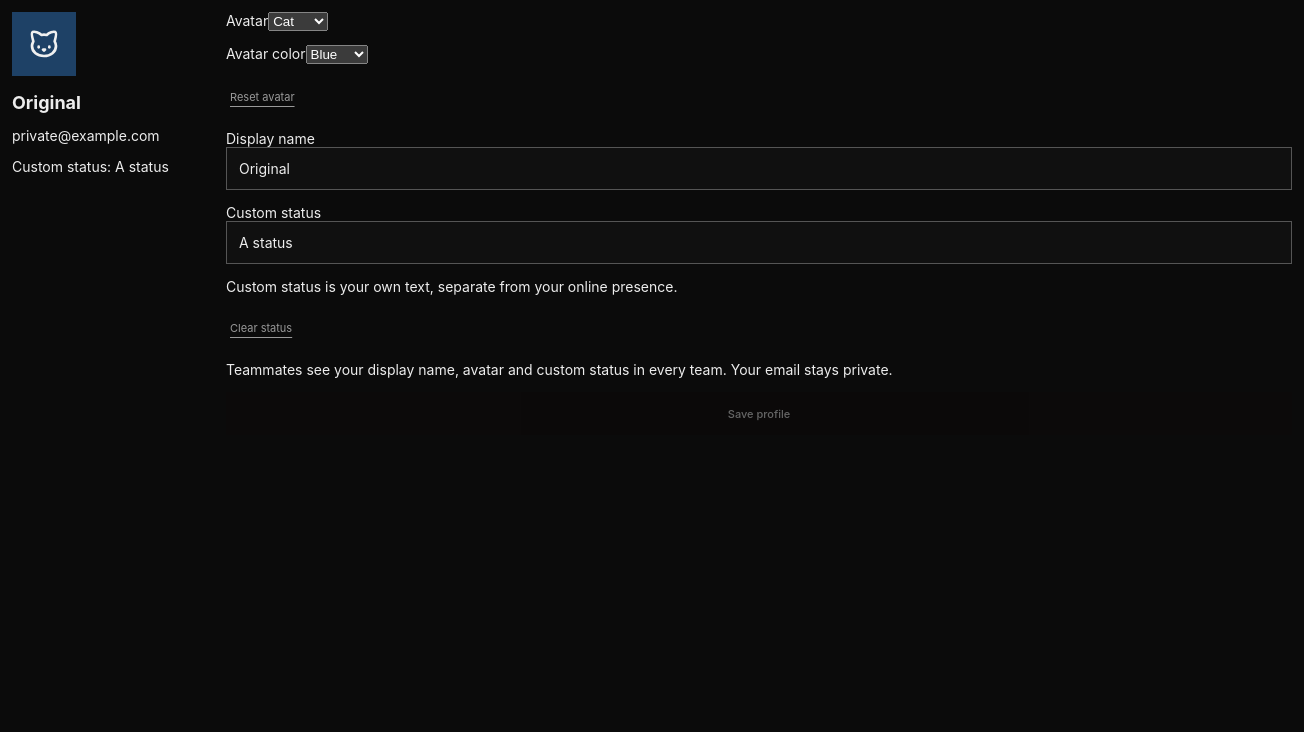
Test case: blocks an unknown or invalid save until refresh and explicit review ({"status":0,"retryAfter":0,"outcomeUnknown":true})
Replace the text in the field labelled "Display name" with "My draft". click: (759, 168)
box: [226,147,1292,190]
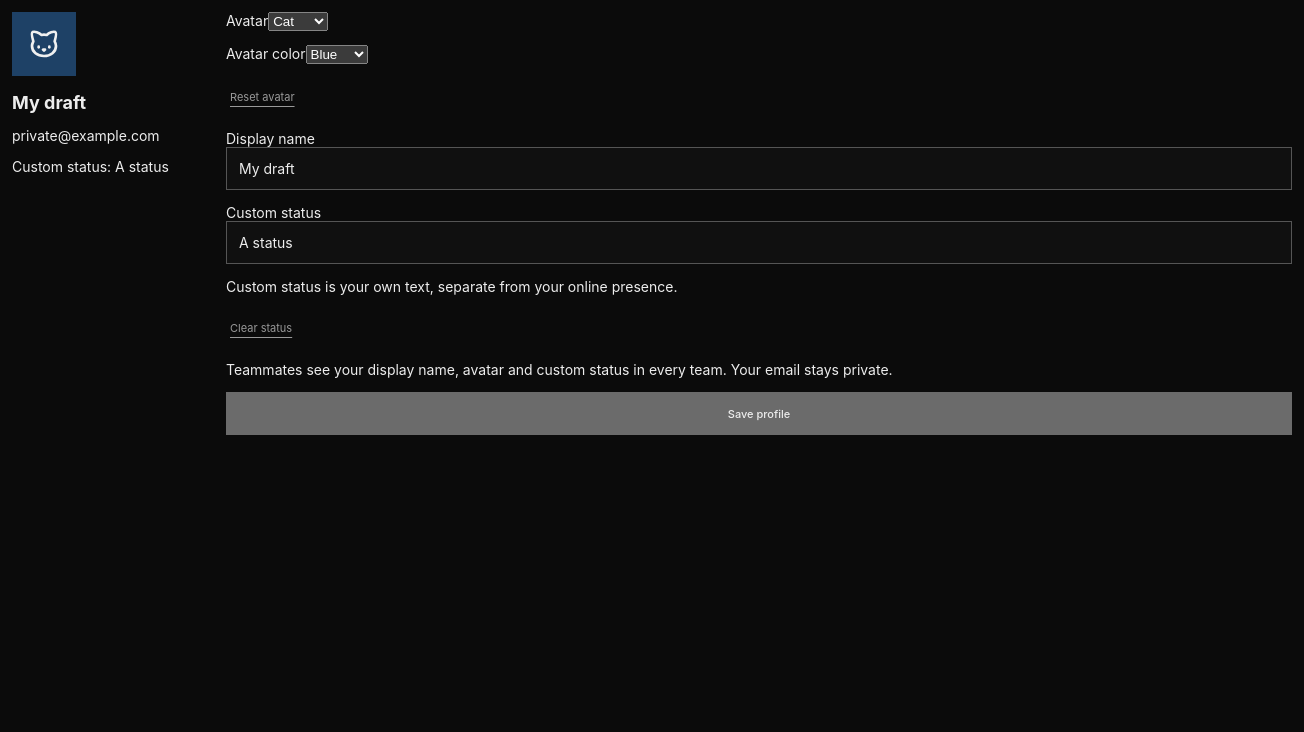
Click the button "Save profile". click: (759, 414)
box: [226,392,1292,435]
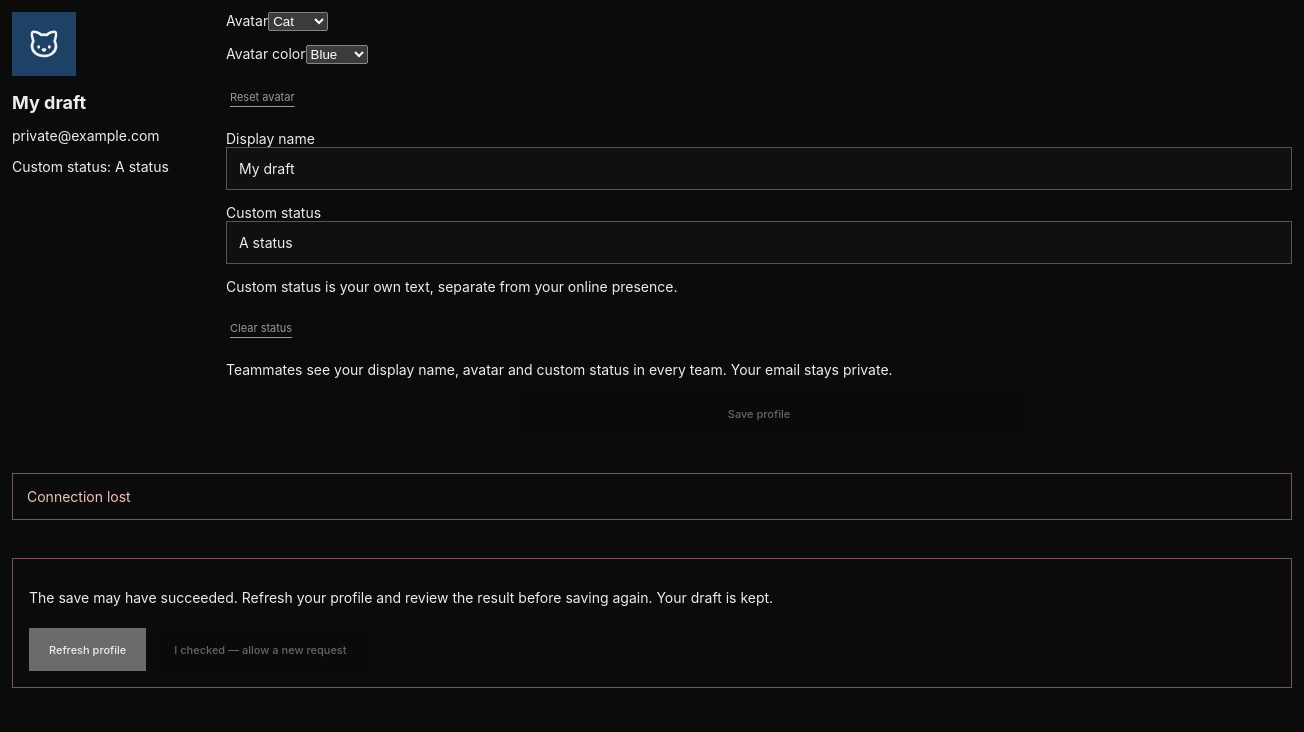
Now the text "The save may have succeeded" is shown, box [29,589,773,606]
Now the button "Save profile" is disabled, box [226,392,1292,435]
Now the button "I checked — allow a new request" is disabled, box [154,628,366,671]
Click the button "Refresh profile". click: (88, 650)
box: [29,628,146,671]
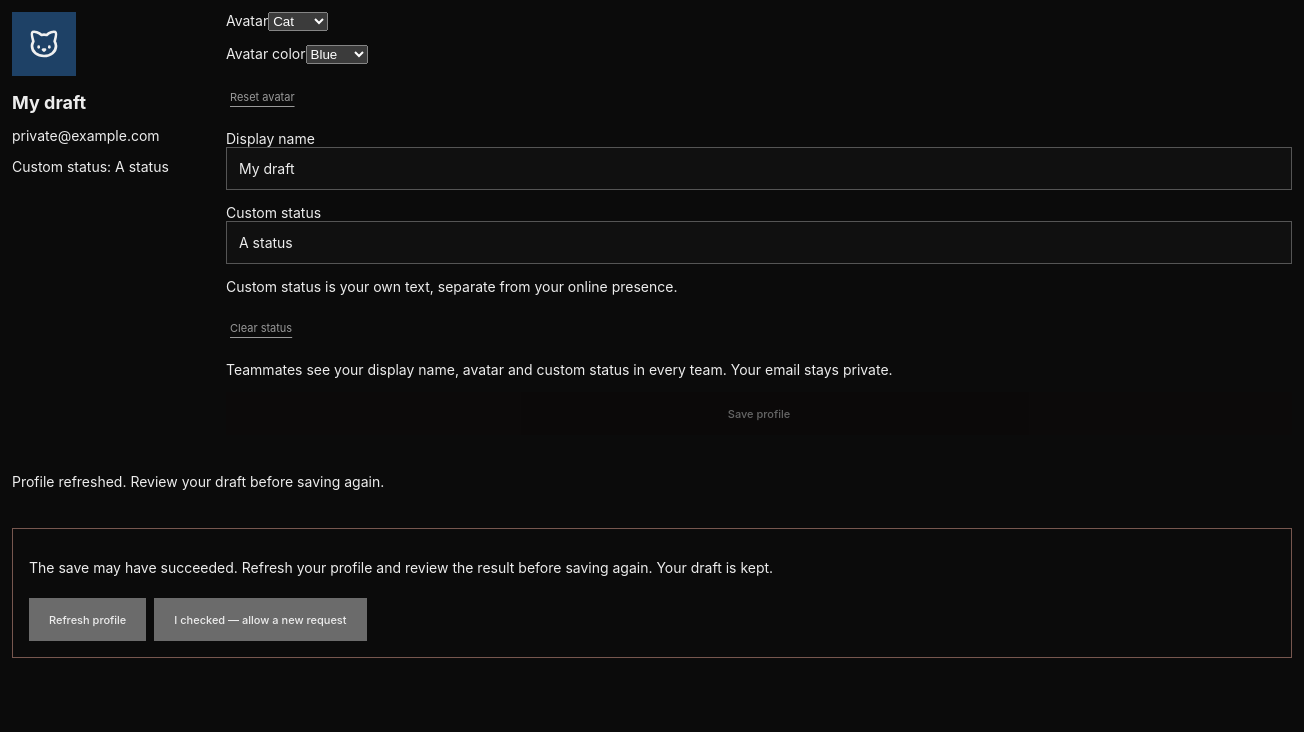
Now the button "Save profile" is disabled, box [226,392,1292,435]
Now the text "Profile refreshed. Review your draft before saving again." is shown, box [12,473,384,490]
Click the button "I checked — allow a new request". click: (260, 620)
box: [154,598,366,641]
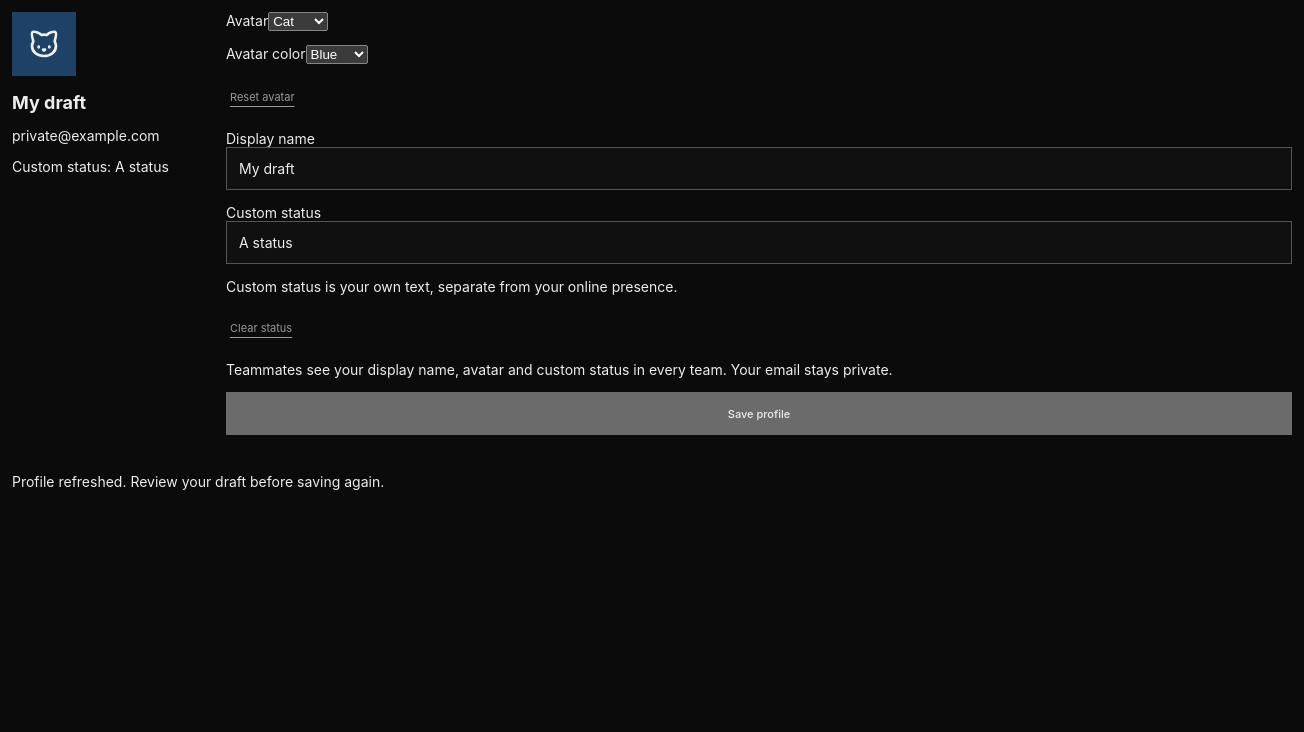
Now the button "Save profile" is enabled, box [226,392,1292,435]
